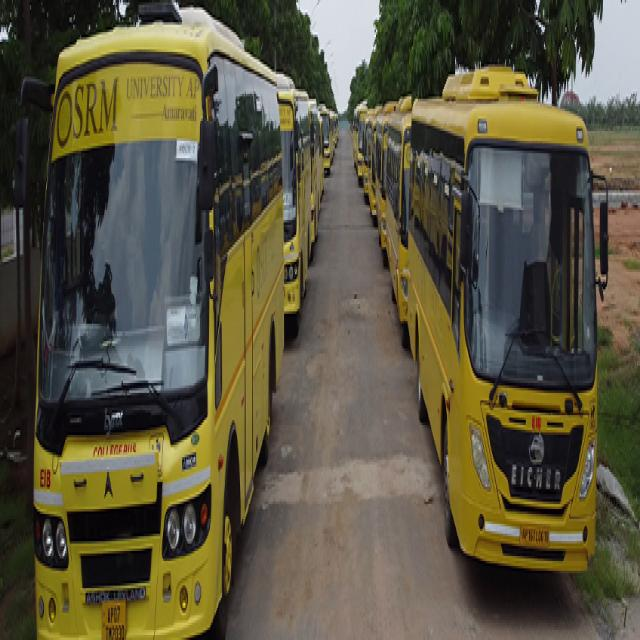plate: (518, 515, 552, 554), (100, 593, 128, 640)
